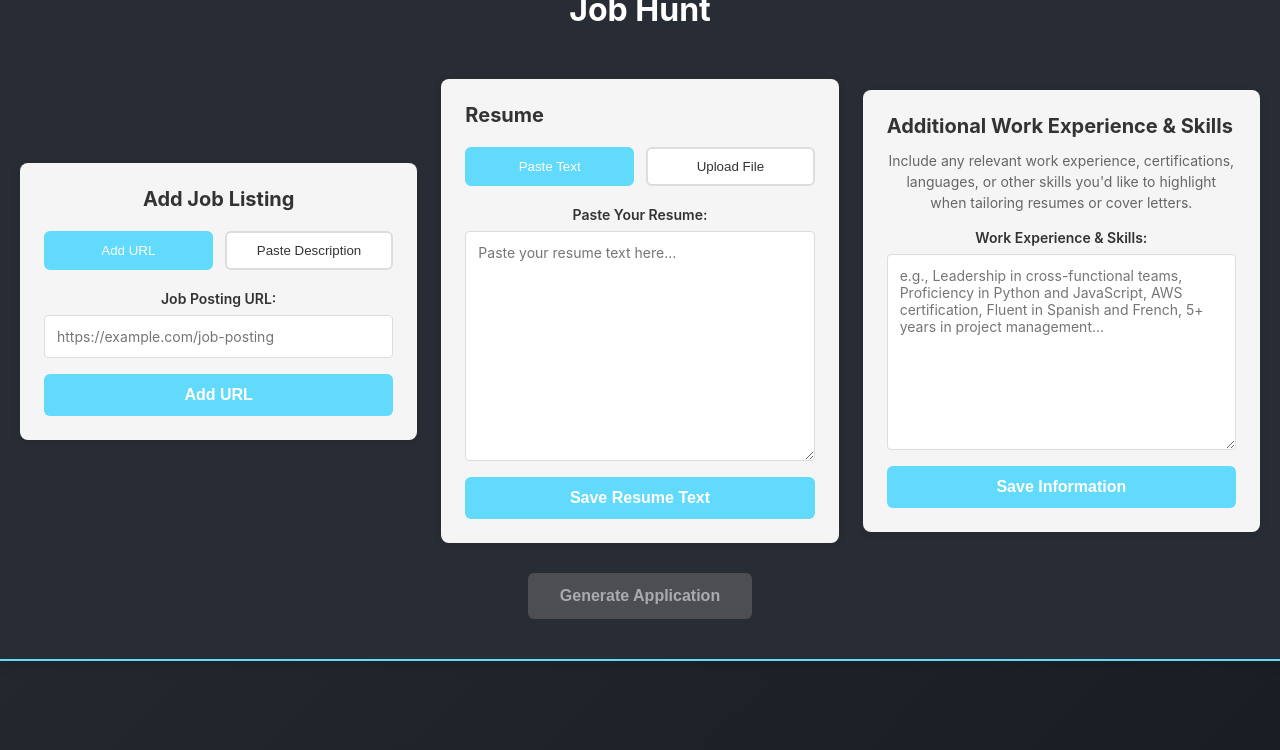
Test: adding a job via JobInputArea appears in Saved Job Listings
// Switch to description mode and add a job
Click the button "Paste Description": point(309, 250) [225,230,393,270]
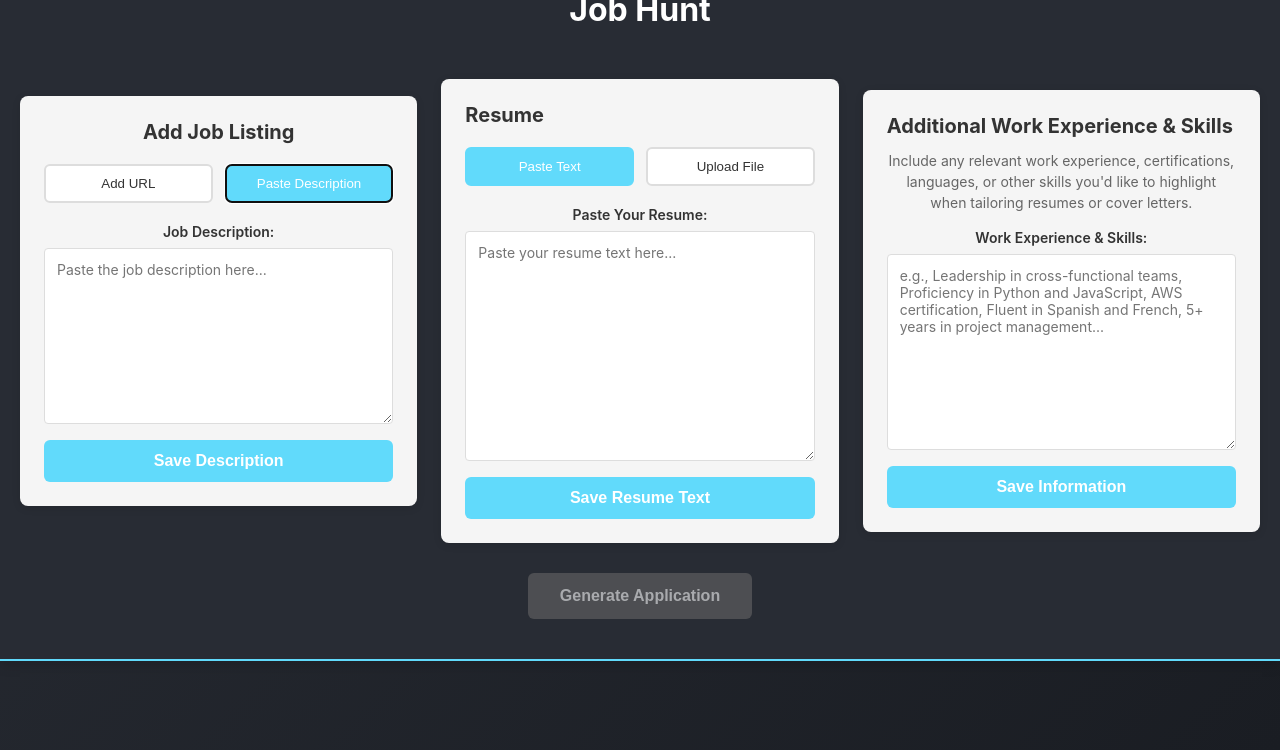
In the text box with placeholder "Paste the job description here...": point(219, 336) [44,248,393,424], type "Tester job description"
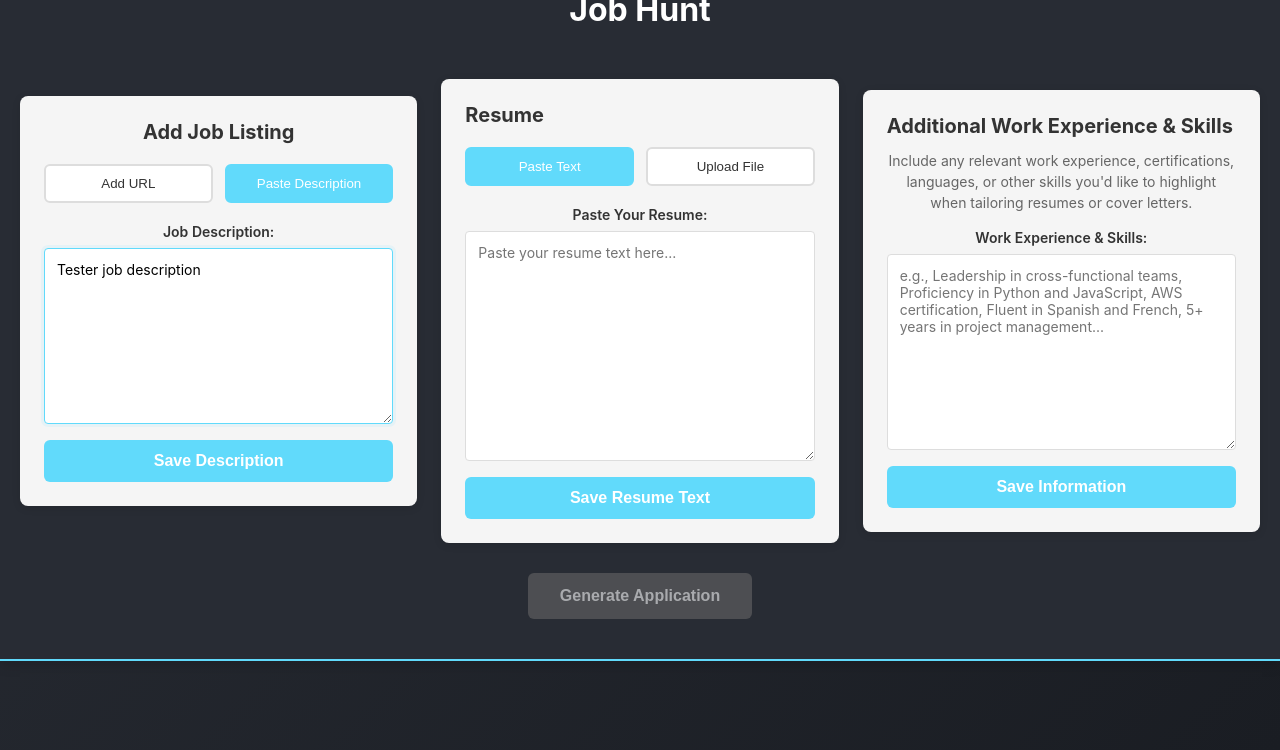
Click the button "Save Description": point(219, 461) [44,440,393,482]
(page scrolled)
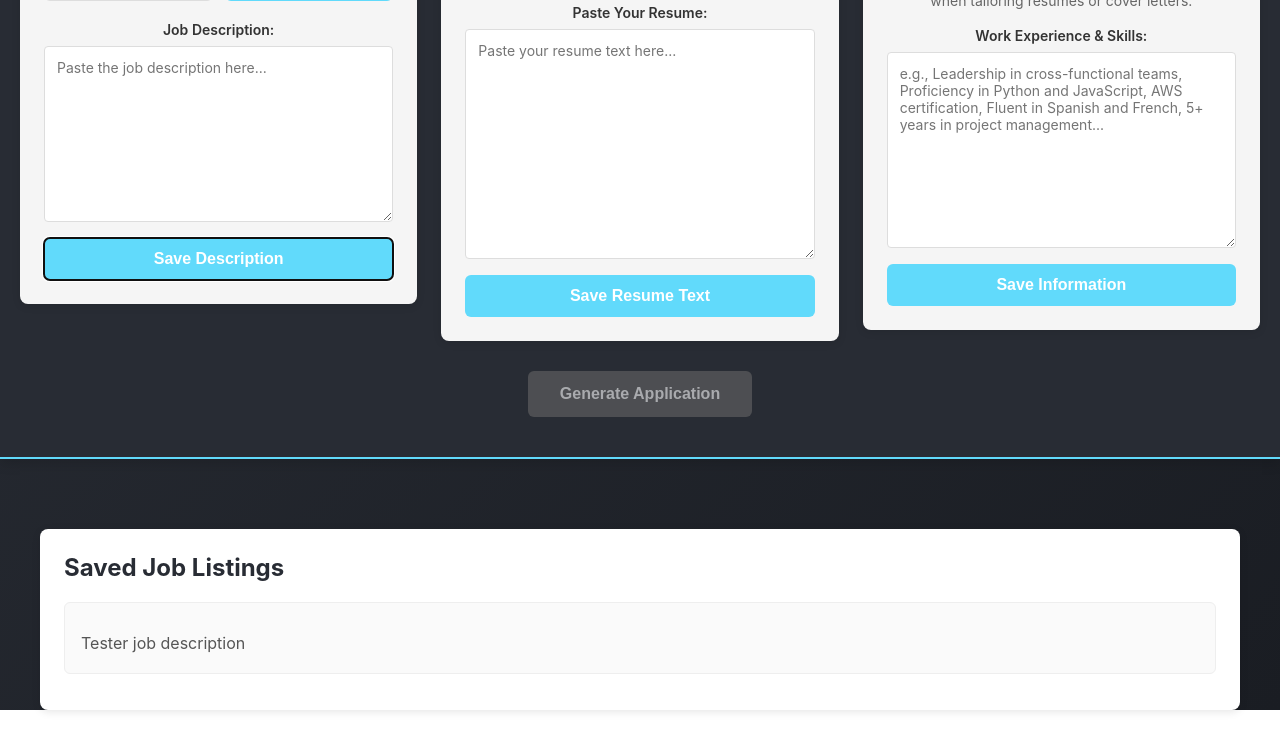
Check: the heading "Saved Job Listings" is shown, box [64,553,284,582]
Check: the text "Tester job description" is shown, box [81,633,245,653]
